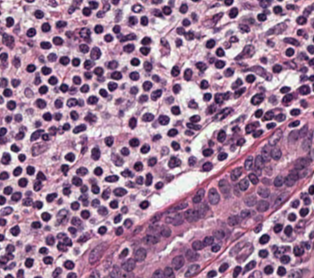nucleus: (268, 129, 282, 145), (273, 192, 287, 207), (267, 23, 285, 34), (251, 66, 269, 77), (215, 108, 231, 119), (208, 188, 219, 204), (31, 144, 46, 155), (218, 179, 229, 194), (255, 155, 264, 173), (230, 167, 242, 180), (192, 189, 204, 202), (2, 34, 13, 47), (245, 122, 258, 133), (30, 129, 43, 140), (261, 146, 270, 161), (242, 45, 254, 56), (244, 195, 256, 206), (120, 33, 135, 41), (90, 47, 100, 59), (251, 94, 263, 104), (168, 157, 180, 167), (257, 187, 269, 197), (112, 154, 122, 165), (248, 173, 258, 184), (238, 179, 248, 190), (80, 28, 89, 40), (73, 124, 85, 133), (114, 187, 126, 196), (244, 156, 252, 169), (151, 90, 161, 100), (271, 148, 280, 159), (1, 153, 10, 164), (274, 175, 283, 186), (91, 147, 99, 159), (187, 122, 200, 129), (232, 79, 241, 89), (234, 88, 244, 97), (263, 111, 273, 120), (158, 115, 168, 124), (142, 113, 153, 121), (85, 114, 96, 122), (217, 130, 225, 141), (76, 167, 87, 175), (145, 173, 152, 185), (212, 13, 221, 22), (129, 71, 138, 80), (36, 99, 45, 108), (140, 144, 149, 153), (202, 162, 211, 171), (239, 24, 249, 32), (107, 61, 117, 69), (196, 62, 206, 70), (171, 66, 179, 76), (111, 71, 121, 79), (215, 93, 223, 103), (67, 98, 77, 106), (105, 136, 113, 146), (33, 180, 41, 190), (46, 193, 56, 201), (259, 0, 270, 7), (229, 8, 237, 17), (34, 10, 43, 18), (41, 23, 50, 31), (206, 39, 214, 48), (79, 44, 88, 52), (124, 44, 133, 52), (84, 60, 93, 68), (26, 64, 35, 72), (48, 76, 57, 84), (143, 81, 151, 90), (88, 96, 97, 104), (188, 100, 197, 108), (129, 138, 138, 146), (65, 153, 74, 161), (105, 175, 117, 181), (72, 177, 81, 185), (18, 178, 27, 186), (12, 192, 21, 200), (132, 5, 142, 12), (40, 41, 50, 48), (184, 69, 191, 79), (129, 118, 136, 128), (121, 170, 132, 176), (179, 4, 187, 12), (82, 7, 90, 15), (94, 25, 102, 33), (27, 28, 35, 36), (185, 31, 193, 39), (48, 53, 56, 61), (60, 56, 68, 64), (94, 67, 102, 75), (200, 80, 208, 88), (108, 82, 116, 90), (80, 84, 88, 92), (39, 85, 47, 93), (7, 101, 15, 109), (207, 105, 215, 113), (171, 106, 179, 114), (43, 112, 51, 120), (171, 141, 179, 149), (218, 152, 226, 160), (134, 162, 142, 170), (26, 166, 34, 174), (13, 167, 21, 175), (94, 167, 102, 175), (37, 172, 45, 180), (140, 16, 147, 25), (6, 17, 13, 26), (53, 37, 62, 44), (141, 37, 150, 44), (140, 47, 149, 54), (12, 57, 19, 66), (215, 61, 224, 68), (144, 62, 151, 71), (41, 67, 50, 74), (173, 84, 180, 93), (25, 88, 32, 97), (275, 114, 284, 121), (190, 115, 199, 122), (168, 129, 177, 136), (253, 130, 262, 137), (203, 149, 212, 156), (61, 165, 68, 174), (92, 184, 99, 193), (102, 189, 109, 198), (56, 21, 66, 27), (89, 1, 97, 8), (163, 6, 170, 14), (273, 6, 281, 13), (257, 13, 265, 20), (129, 16, 136, 24), (113, 25, 120, 33), (104, 34, 112, 41), (161, 39, 168, 47), (216, 48, 223, 56), (72, 58, 79, 66), (131, 58, 139, 65), (273, 65, 281, 72), (224, 69, 232, 76), (246, 75, 254, 82), (73, 76, 80, 84), (60, 84, 68, 91), (3, 89, 11, 96), (99, 89, 107, 96), (55, 99, 62, 107), (255, 109, 262, 117), (70, 111, 77, 119), (49, 126, 56, 134), (41, 133, 49, 140), (121, 147, 128, 155), (188, 157, 195, 165), (148, 158, 156, 165), (0, 172, 8, 179), (4, 186, 11, 194), (1, 53, 7, 62), (177, 27, 184, 34), (12, 79, 19, 86), (130, 86, 137, 93), (203, 93, 210, 100), (54, 113, 61, 120), (16, 132, 23, 139), (237, 138, 244, 145), (11, 144, 18, 151), (18, 154, 25, 161), (34, 76, 40, 84), (139, 95, 147, 101), (0, 127, 6, 135), (136, 176, 142, 184), (154, 10, 161, 16), (182, 19, 189, 25), (84, 72, 91, 78), (223, 92, 229, 99), (15, 114, 21, 121), (63, 123, 69, 130), (126, 181, 133, 187), (155, 182, 162, 188), (63, 188, 70, 194), (224, 0, 232, 5), (103, 1, 108, 9), (1, 78, 6, 86), (97, 11, 103, 17), (152, 75, 158, 81), (49, 1, 56, 6), (176, 39, 181, 46), (267, 123, 274, 128), (185, 130, 192, 135), (153, 135, 160, 140), (81, 185, 86, 192), (69, 6, 74, 12), (5, 116, 10, 122), (230, 37, 237, 41), (78, 100, 83, 105), (112, 0, 118, 4), (192, 13, 196, 19), (262, 179, 268, 183), (71, 87, 75, 92), (152, 1, 160, 3), (268, 42, 272, 45), (261, 58, 265, 61), (209, 141, 212, 145)
